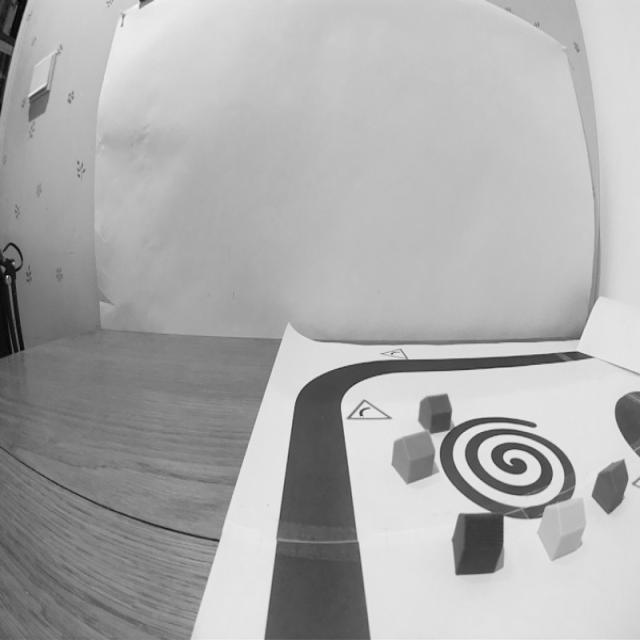home: (447, 509, 509, 579), (536, 497, 587, 561), (390, 432, 436, 486), (590, 459, 630, 515), (417, 391, 454, 435)
laneRightTurn: (278, 357, 391, 479)
lineStraight: (258, 506, 379, 640)
nest: (434, 409, 586, 528)
